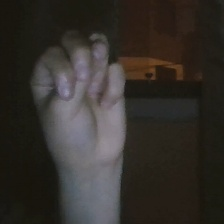N: (22, 24, 139, 177)
